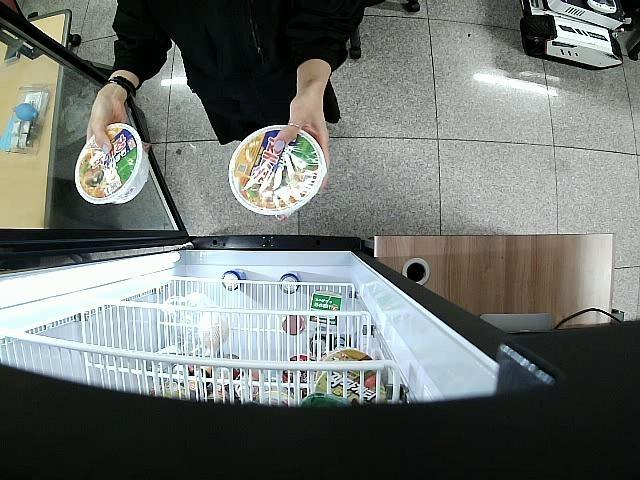09_yukGaeJang: (228, 125, 326, 214), (75, 124, 152, 206)
